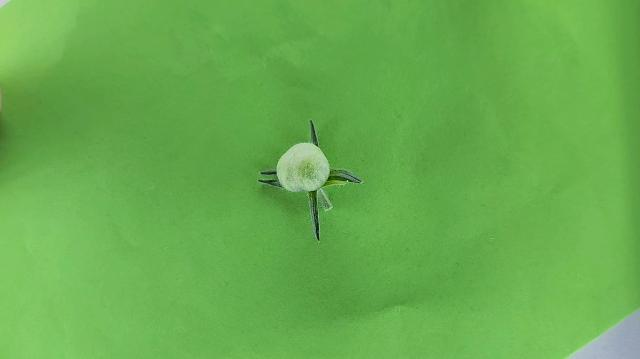Fruit Maturation: (275, 142, 331, 194)
